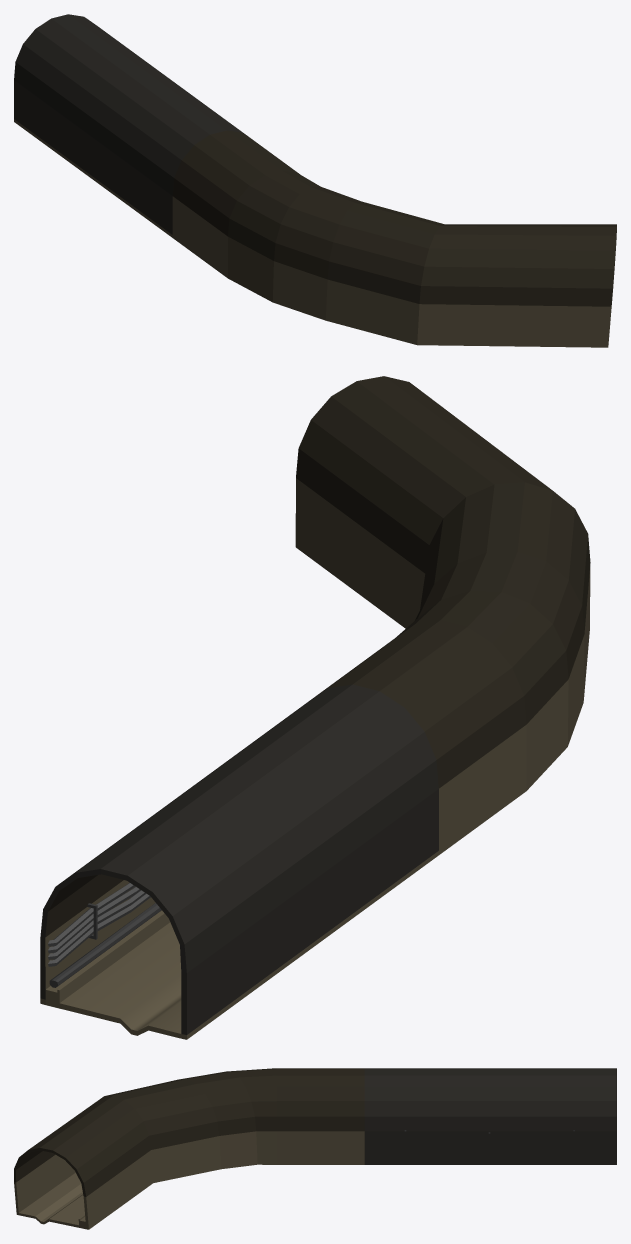
Rendered from Blocked_Tunnel.fbx.
The picture shows the model from 3 angles, top to bottom: view 1: azimuth 30°, elevation 25°; view 2: azimuth 150°, elevation 25°; view 3: azimuth 270°, elevation 25°; orthographic projection. The views are drawn at different scales.
Visible parts, largest first — view 1: Blocked_Tunnel; view 2: Blocked_Tunnel; view 3: Blocked_Tunnel.
Boxes of the visible parts, x1,y1,x2,y2 form: Blocked_Tunnel: [14, 14, 616, 347]; Blocked_Tunnel: [40, 376, 590, 1039]; Blocked_Tunnel: [14, 1068, 616, 1229].
Size of the model in its own units: 24.99 by 9 by 61.9.
